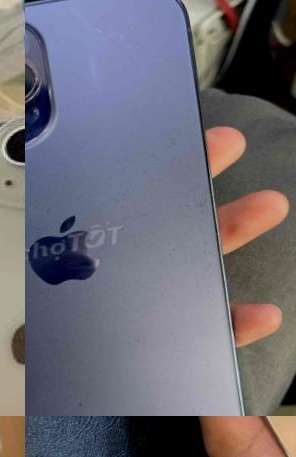physical_damage: (0, 416, 25, 457)
